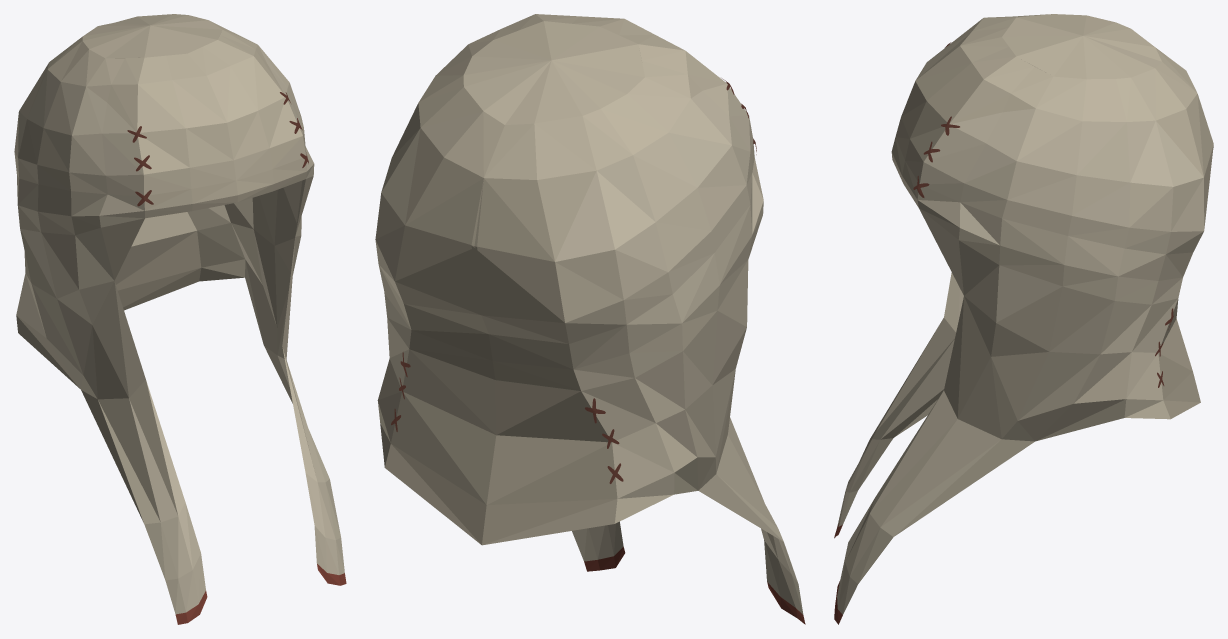
The model's file is peasantManHatLongFemale.glb.
The picture shows the model from 3 angles, left to right: view 1: azimuth 30°, elevation 25°; view 2: azimuth 150°, elevation 25°; view 3: azimuth 270°, elevation 25°; orthographic projection. The views are drawn at different scales.
Visible parts, largest first — view 1: peasantManHatLong; view 2: peasantManHatLong; view 3: peasantManHatLong.
Boxes of the visible parts, left/top/right/bottom form: peasantManHatLong: left=14, top=14, right=346, bottom=624; peasantManHatLong: left=375, top=14, right=805, bottom=624; peasantManHatLong: left=834, top=14, right=1213, bottom=624.
Size of the model in its own units: 0.2631 by 0.5153 by 0.3259.
